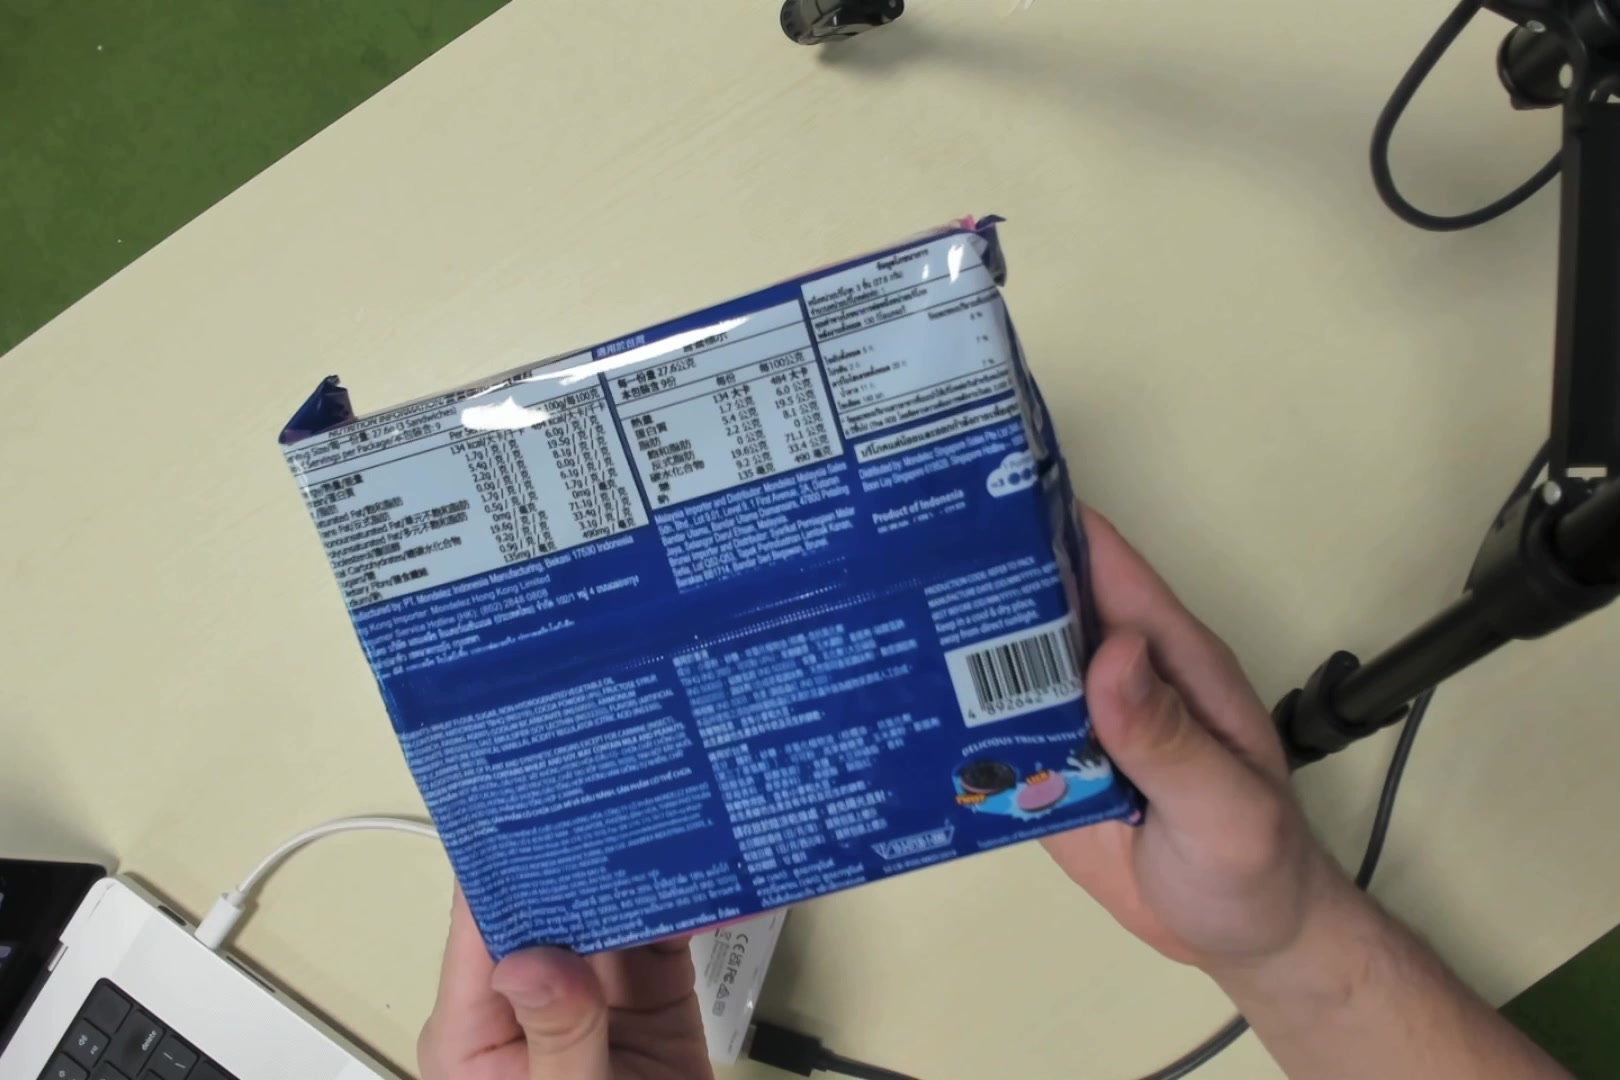SweetsChocolatesOthers_200-299g_Halal_NonHealthy: (340, 290, 1104, 892)
